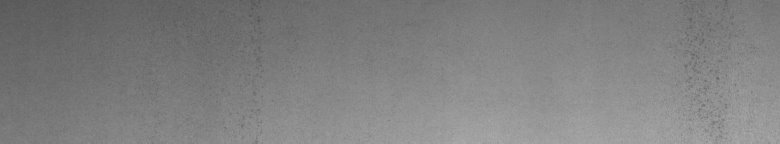ib: (684, 37, 725, 128)
